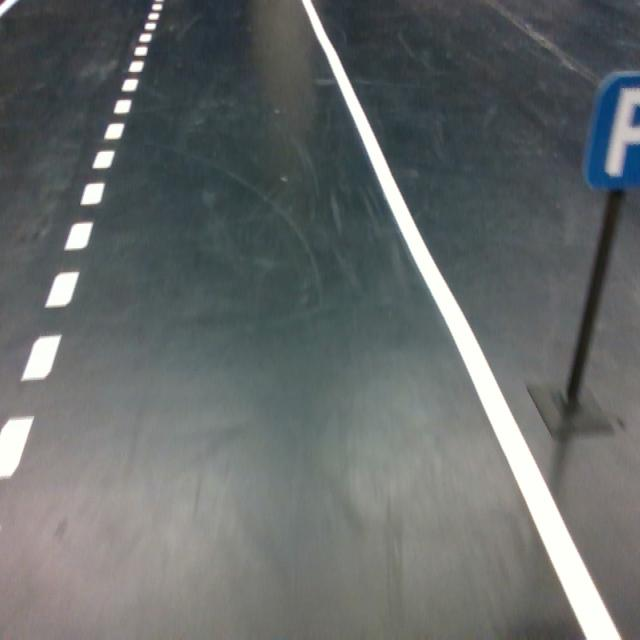parking-sign: (581, 70, 640, 190)
